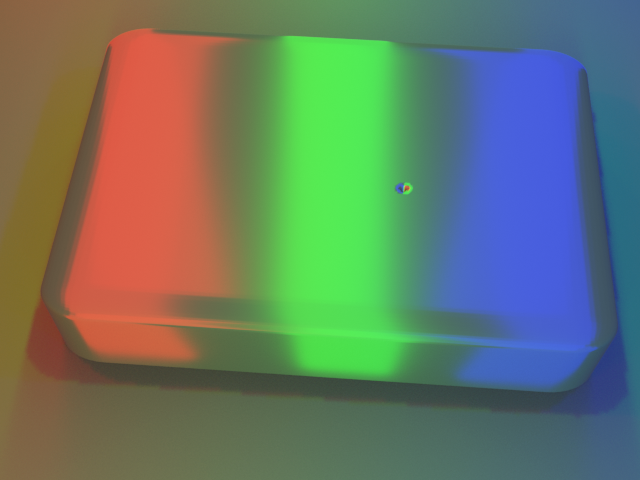dent: (394, 169, 428, 206)
